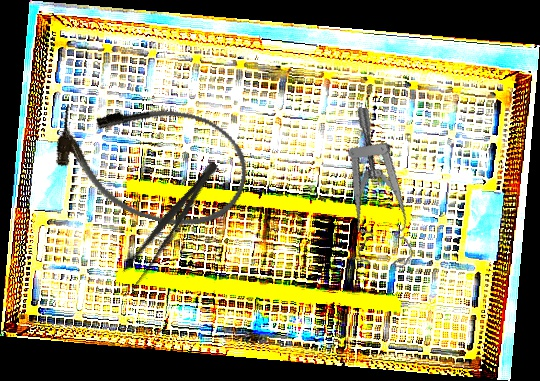Cannula: (43, 80, 259, 242)
Dressing Forceps: (116, 156, 225, 293)
Speculum: (321, 106, 445, 274)
